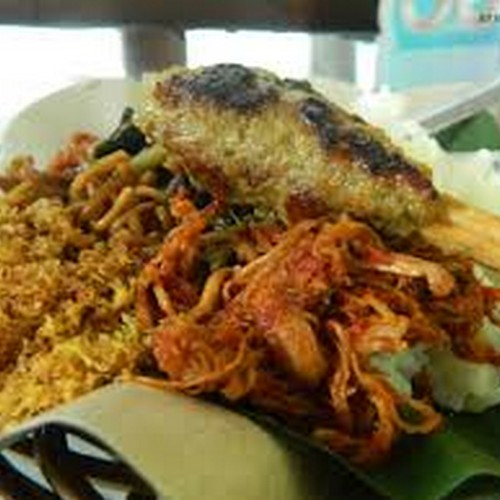nasi jinggo: (34, 133, 461, 421)
